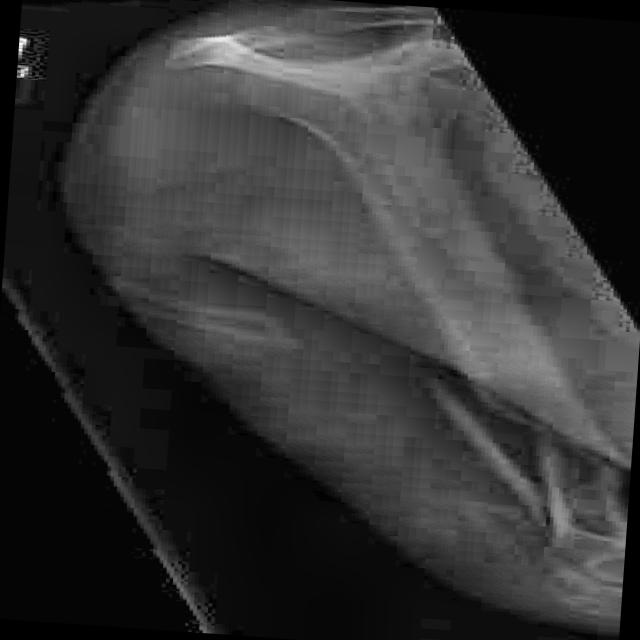humerus: (377, 360, 633, 525)
